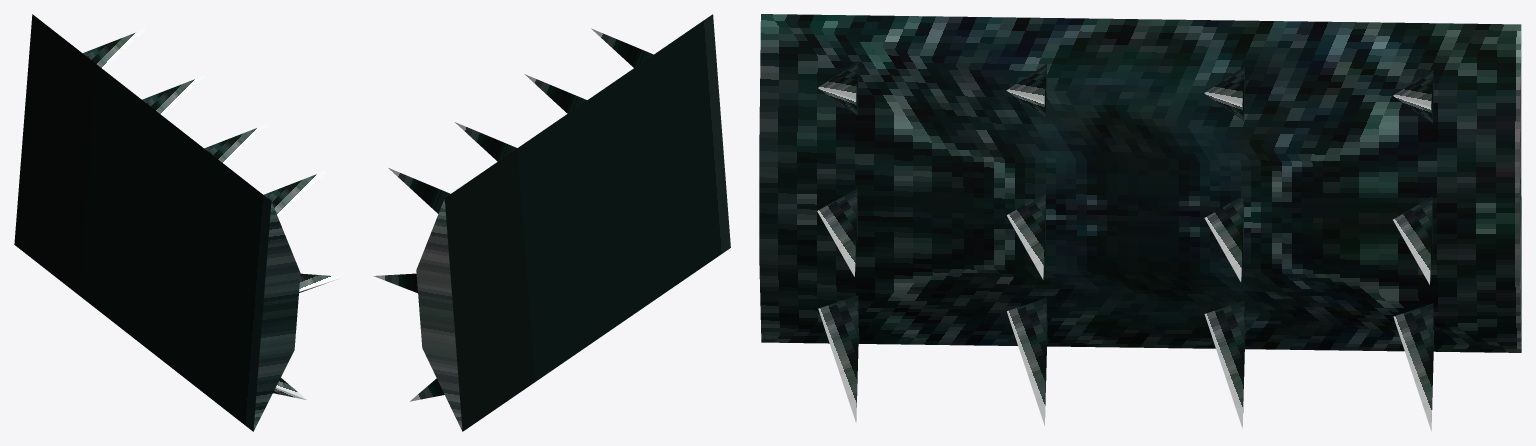
Rendered from Shield08.glb.
3 views of the same model, side by side, from view 1: azimuth 30°, elevation 25°; view 2: azimuth 150°, elevation 25°; view 3: azimuth 270°, elevation 25° (orthographic). The views are drawn at different scales.
Parts seen in each view (by area): view 1: model_Shield08; view 2: model_Shield08; view 3: model_Shield08.
Part boxes in pixels (left/top/right/bottom): model_Shield08: left=14, top=14, right=343, bottom=431; model_Shield08: left=373, top=14, right=730, bottom=431; model_Shield08: left=759, top=14, right=1521, bottom=431.
Size of the model in its own units: 0.2554 by 0.4429 by 0.8481.
1 material, 1 textured.
